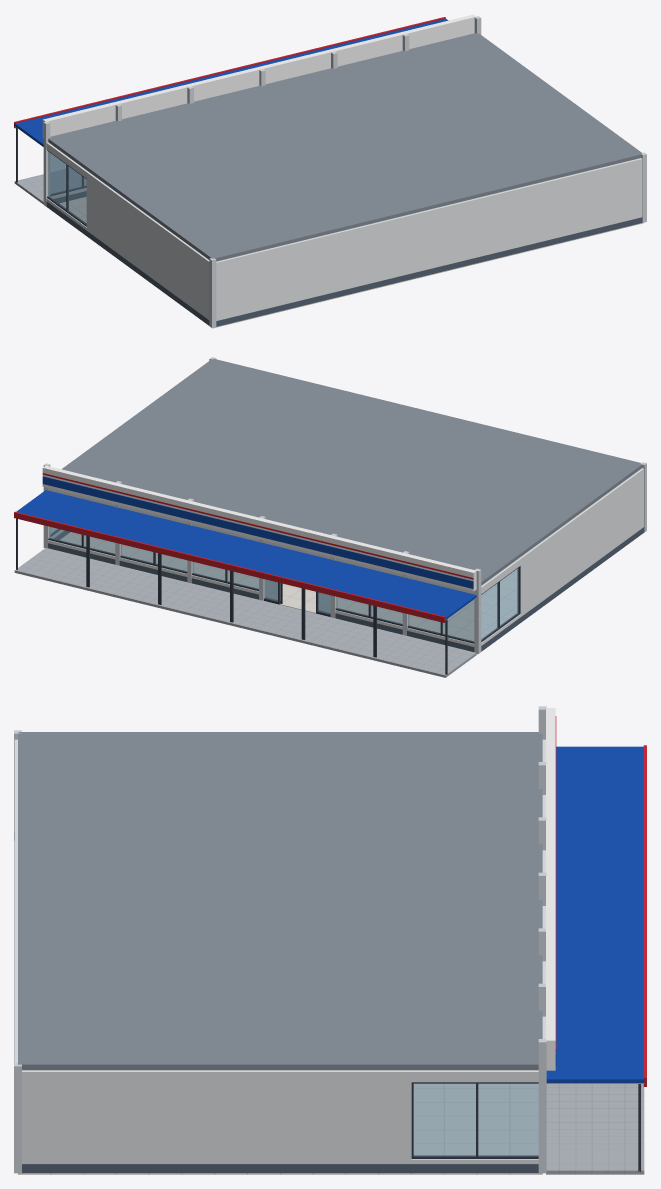
Rendered from Store_Assembled_24x16.obj.
3 views of the same model, one above another, from view 1: azimuth 30°, elevation 25°; view 2: azimuth 150°, elevation 25°; view 3: azimuth 270°, elevation 25° (orthographic). The views are drawn at different scales.
Visible parts, largest first — view 1: Roof, Wall, Fascia, Canopy, Pillar, Glass, Deck, Floor; view 2: Roof, Canopy, Wall, Deck, Fascia, Glass, Floor, Pillar; view 3: Roof, Wall, Canopy, Floor, Glass, Deck, Fascia, Pillar.
Part boxes in pixels (x1=…): Roof: x1=48, y1=33, x2=642, y2=261; Wall: x1=46, y1=142, x2=642, y2=326; Fascia: x1=42, y1=14, x2=475, y2=138; Canopy: x1=14, y1=17, x2=448, y2=182; Pillar: x1=43, y1=16, x2=646, y2=327; Glass: x1=48, y1=151, x2=86, y2=223; Deck: x1=14, y1=168, x2=85, y2=204; Floor: x1=60, y1=197, x2=643, y2=328; Roof: x1=62, y1=358, x2=642, y2=585; Canopy: x1=14, y1=490, x2=476, y2=674; Wall: x1=48, y1=468, x2=644, y2=651; Deck: x1=14, y1=548, x2=476, y2=677; Fascia: x1=42, y1=466, x2=476, y2=591; Glass: x1=49, y1=526, x2=518, y2=641; Floor: x1=60, y1=532, x2=516, y2=654; Pillar: x1=43, y1=357, x2=646, y2=653; Roof: x1=18, y1=732, x2=542, y2=1070; Wall: x1=14, y1=739, x2=545, y2=1172; Canopy: x1=546, y1=745, x2=646, y2=1171; Floor: x1=18, y1=1084, x2=542, y2=1174; Glass: x1=413, y1=1083, x2=538, y2=1156; Deck: x1=546, y1=1084, x2=644, y2=1174; Fascia: x1=546, y1=708, x2=556, y2=1070; Pillar: x1=14, y1=706, x2=546, y2=1173.
Size of the model in its own units: 24.24 by 4.5 by 19.3.
13 materials, 2 textured.
